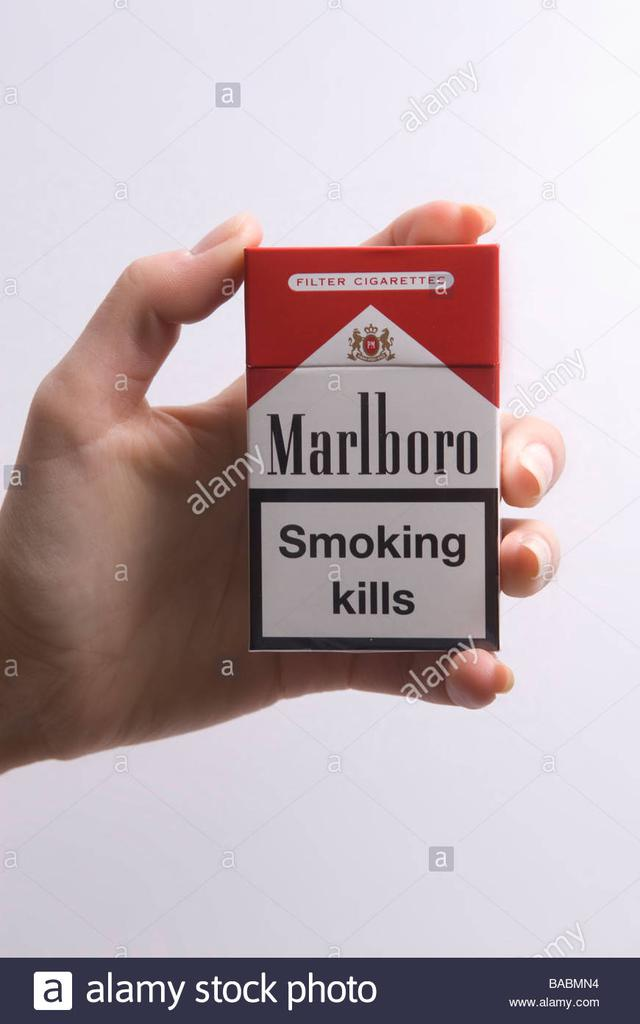marlboro_red: (252, 250, 498, 650)
